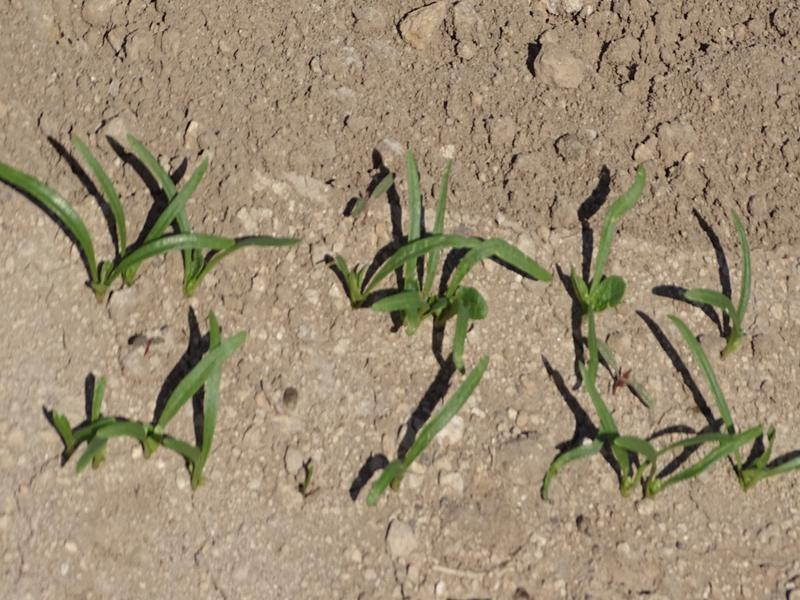Espinaca: (565, 184, 785, 496), (21, 125, 296, 287), (338, 161, 550, 359), (46, 316, 250, 471), (366, 359, 493, 504)
